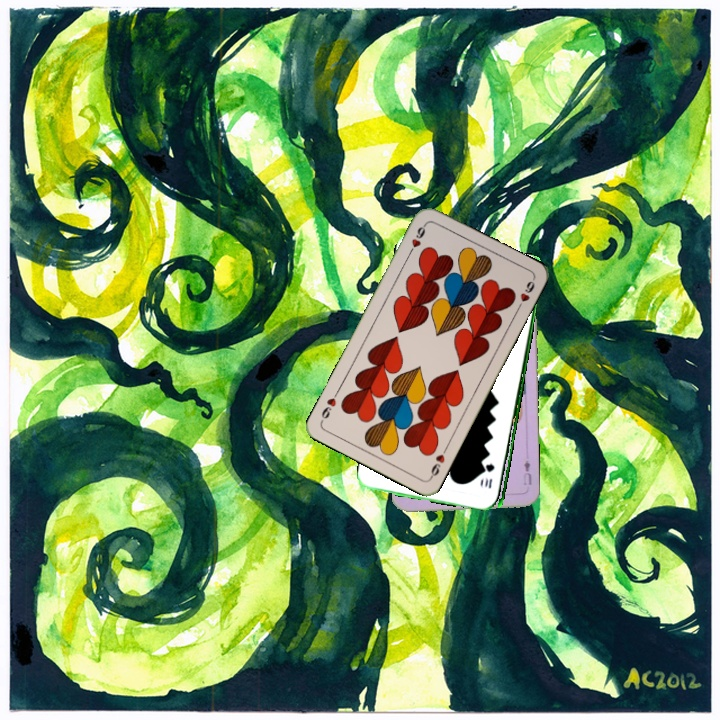EU: (519, 456, 534, 488)
G10: (481, 459, 497, 491)
H9: (404, 220, 429, 257), (426, 443, 450, 481)
